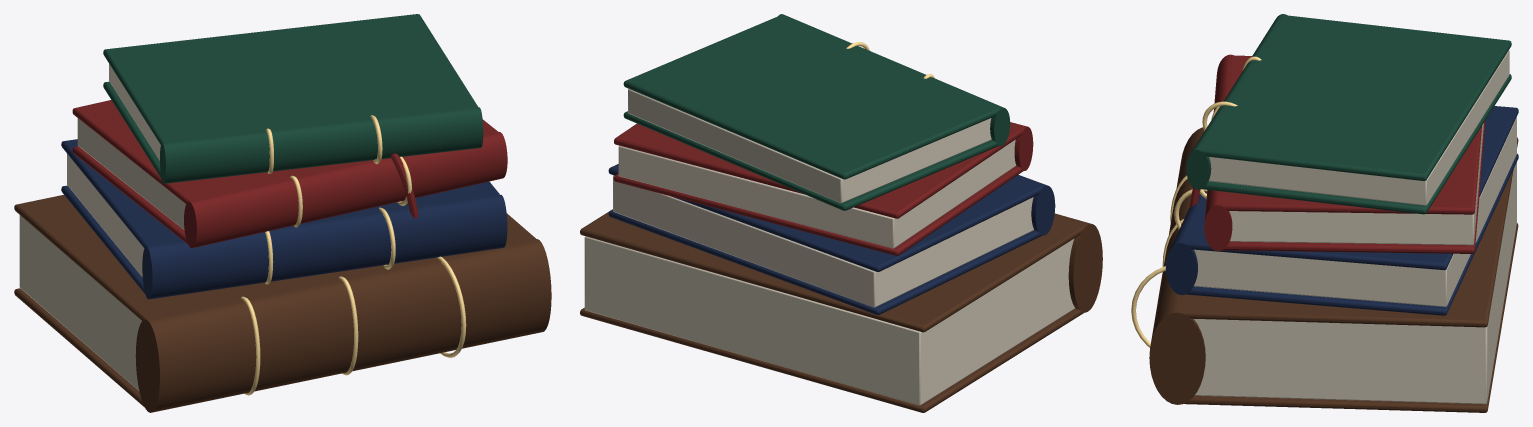
Rendered from books.glb.
3 renders of one model, left to right at view 1: azimuth 30°, elevation 25°; view 2: azimuth 150°, elevation 25°; view 3: azimuth 270°, elevation 25°, orthographic. The views are drawn at different scales.
Parts seen in each view (by area): view 1: b0_spine, b3_top, b1_spine, b2_spine, b3_spine, b0_top, b0_pages, b2_top, b1_top, b2_pages, b1_pages, b0_bot (+8 smaller); view 2: b0_pages, b3_top, b1_pages, b2_pages, b0_top, b3_pages, b2_top, b1_top, b0_bot, b1_bot, b2_bot, b3_bot (+4 smaller); view 3: b3_top, b0_pages, b1_pages, b0_top, b2_pages, b3_pages, b0_spine, b2_top, b1_top, b0_bot, b1_bot, b3_bot (+5 smaller).
Part boxes in pixels (left/top/right/bottom): b0_spine: left=135, top=239, right=551, bottom=412; b3_top: left=103, top=14, right=477, bottom=146; b1_spine: left=142, top=195, right=507, bottom=299; b2_spine: left=184, top=132, right=507, bottom=248; b3_spine: left=160, top=107, right=483, bottom=183; b0_top: left=14, top=195, right=536, bottom=323; b0_pages: left=19, top=215, right=141, bottom=390; b2_top: left=72, top=100, right=498, bottom=205; b1_top: left=61, top=139, right=499, bottom=250; b2_pages: left=77, top=118, right=186, bottom=230; b1_pages: left=67, top=154, right=144, bottom=277; b0_bot: left=14, top=288, right=147, bottom=408; b0_pages: left=584, top=236, right=1075, bottom=405; b3_top: left=623, top=15, right=1001, bottom=179; b1_pages: left=613, top=175, right=1033, bottom=307; b2_pages: left=618, top=139, right=1016, bottom=248; b0_top: left=580, top=212, right=1087, bottom=332; b3_pages: left=628, top=88, right=991, bottom=203; b2_top: left=614, top=123, right=1025, bottom=218; b1_top: left=608, top=164, right=1044, bottom=271; b0_bot: left=580, top=307, right=1087, bottom=412; b1_bot: left=608, top=209, right=1044, bottom=314; b2_bot: left=614, top=166, right=1023, bottom=255; b3_bot: left=623, top=111, right=1001, bottom=210; b3_top: left=1199, top=15, right=1511, bottom=180; b0_pages: left=1194, top=162, right=1516, bottom=404; b1_pages: left=1194, top=117, right=1516, bottom=306; b0_top: left=1178, top=137, right=1518, bottom=327; b2_pages: left=1229, top=123, right=1483, bottom=245; b3_pages: left=1208, top=50, right=1509, bottom=205; b0_spine: left=1149, top=127, right=1205, bottom=404; b2_top: left=1219, top=55, right=1481, bottom=214; b1_top: left=1183, top=106, right=1518, bottom=269; b0_bot: left=1178, top=223, right=1518, bottom=412; b1_bot: left=1182, top=153, right=1518, bottom=315; b3_bot: left=1202, top=74, right=1511, bottom=214.
Size of the model in its own units: 1.37 by 0.768 by 1.14.
